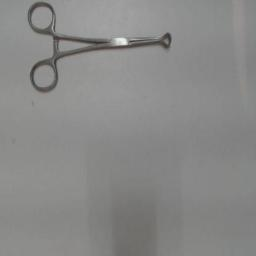Babcock Tissue Forceps: (27, 0, 173, 96)
